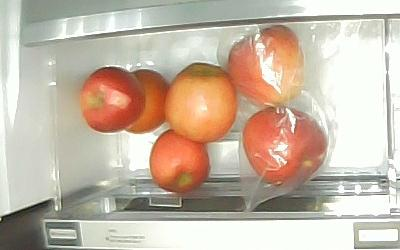apple: (166, 63, 238, 144), (80, 67, 145, 133), (150, 129, 211, 194), (125, 69, 168, 134)
apple_vinyl: (243, 106, 327, 185), (228, 26, 306, 107)
